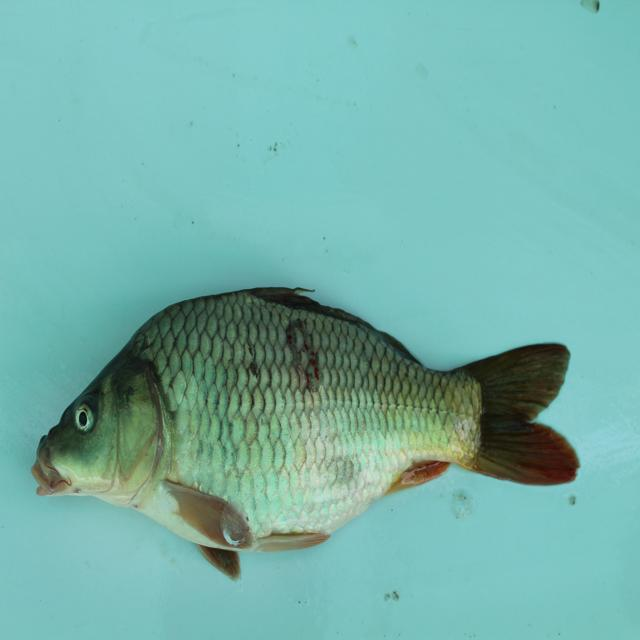CommonCarp: (28, 277, 587, 583)
